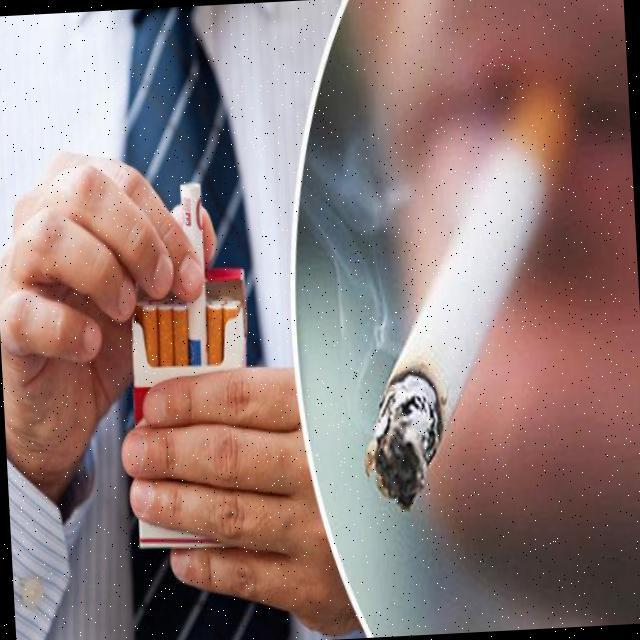cigarette: (330, 54, 616, 515)
